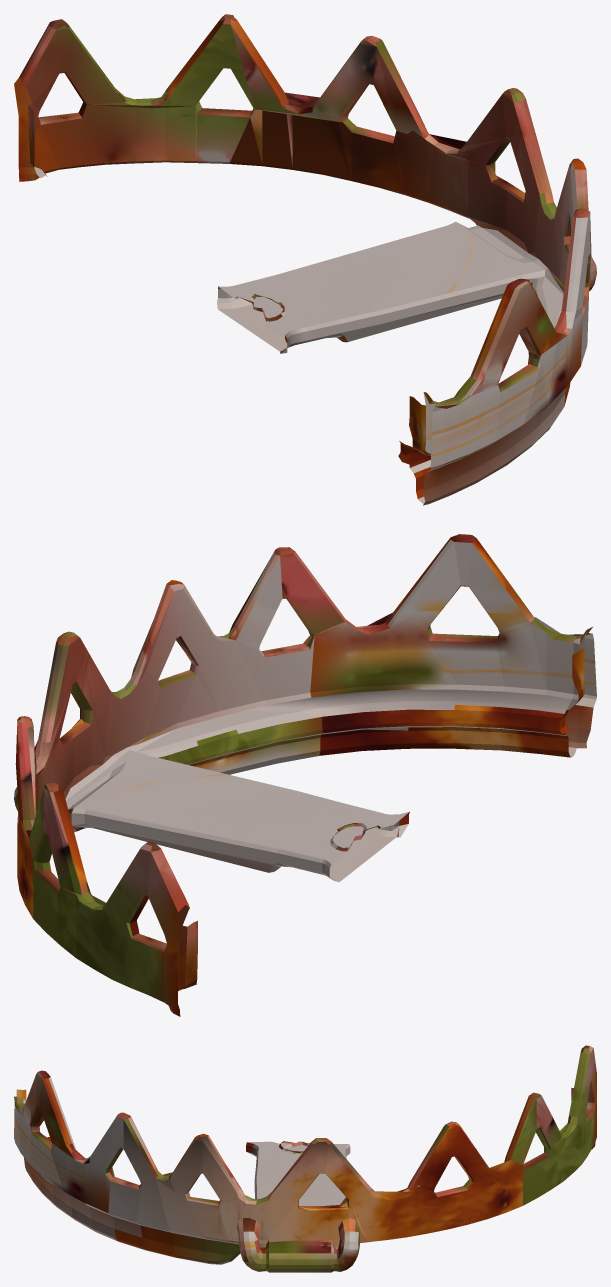
The model's file is XJ_Down_R.fbx.
3 renders of one model, top to bottom at view 1: azimuth 30°, elevation 25°; view 2: azimuth 150°, elevation 25°; view 3: azimuth 270°, elevation 25°, orthographic. The views are drawn at different scales.
Visible parts, largest first — view 1: Down_R; view 2: Down_R; view 3: Down_R.
Part boxes in pixels (x1,y1,x2,y2): Down_R: (14,14,596,505); Down_R: (14,534,596,1016); Down_R: (14,1045,596,1272).
Bounding box in the file's own units: 20.88 × 11.48 × 43.99.
